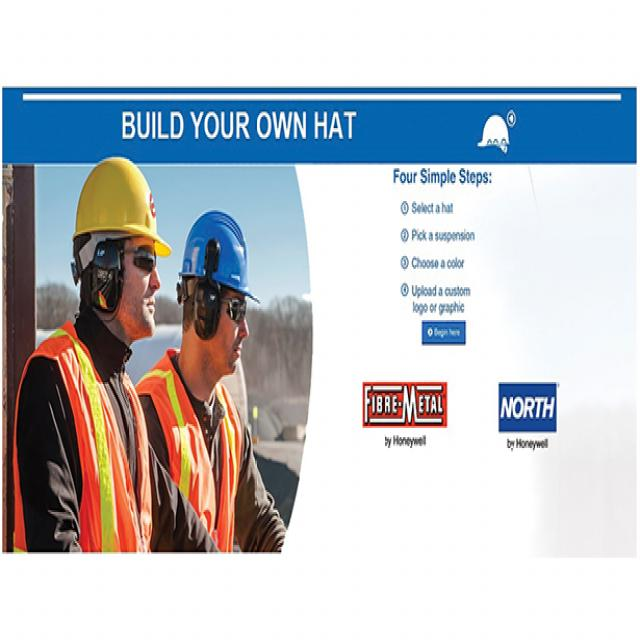Reflective-Jacket: (5, 318, 155, 554), (136, 353, 257, 552)
Safety-Helmet: (66, 148, 172, 263), (175, 205, 262, 307)
